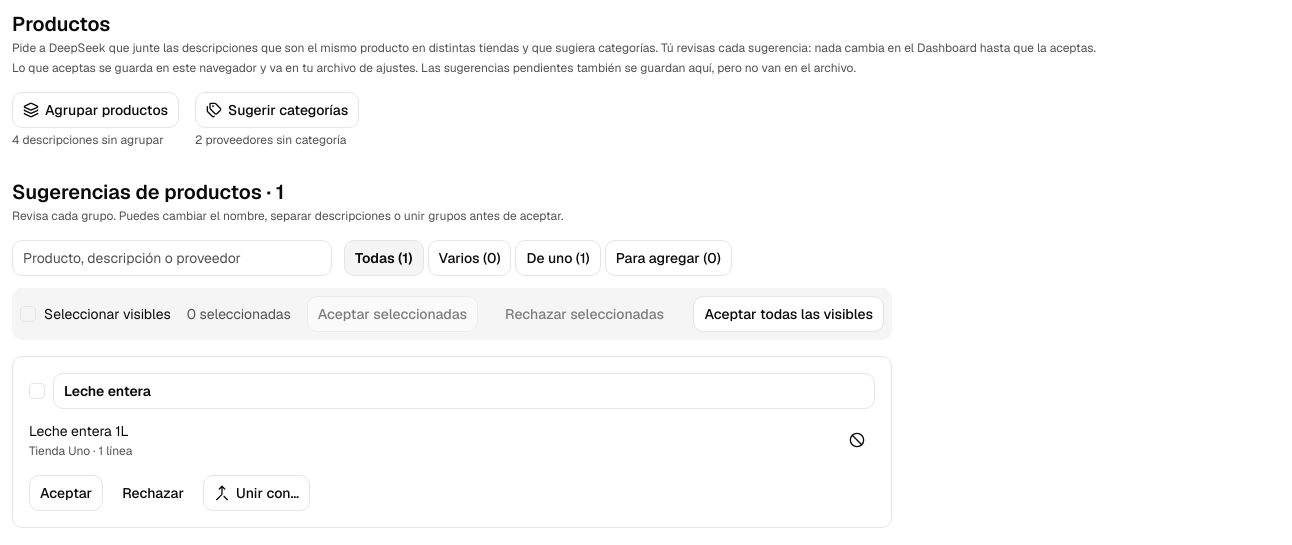
Test: focus after an accept (UI-SPEC accessibility) › moves to the tab heading when the queue empties, because the queue section is gone
Click the button "Aceptar": (66, 493) [29,475,103,511]
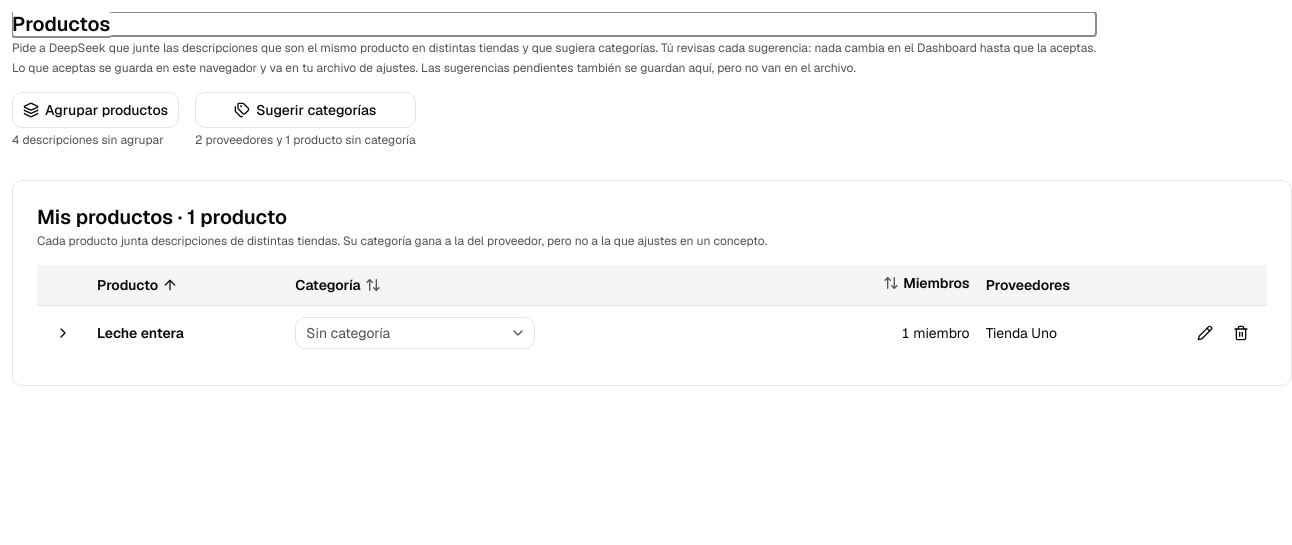
Result: the heading "Sugerencias de productos" is gone
